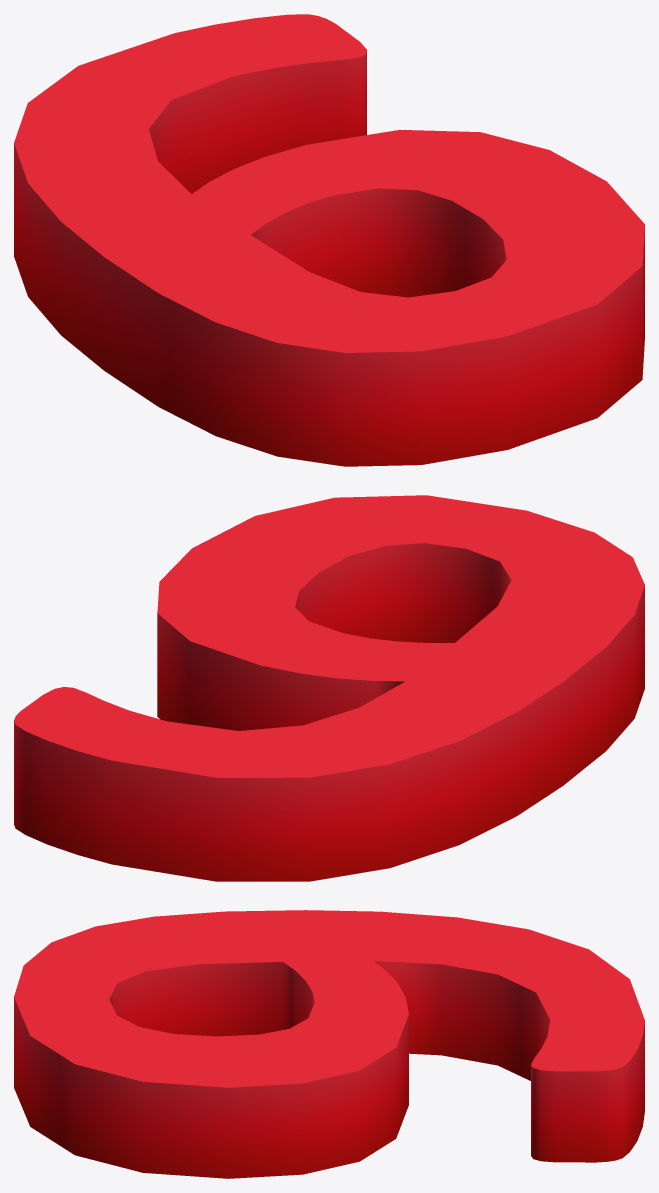
File: figure_6.fbx
The picture shows the model from 3 angles, top to bottom: view 1: azimuth 30°, elevation 25°; view 2: azimuth 150°, elevation 25°; view 3: azimuth 270°, elevation 25°; orthographic projection. The views are drawn at different scales.
Parts seen in each view (by area): view 1: figure_6; view 2: figure_6; view 3: figure_6.
Part boxes in pixels (<box>): figure_6: <box>14,14,644,466</box>; figure_6: <box>14,495,644,881</box>; figure_6: <box>14,910,644,1178</box>.
Size of the model in its own units: 15.69 by 3.75 by 23.55.
